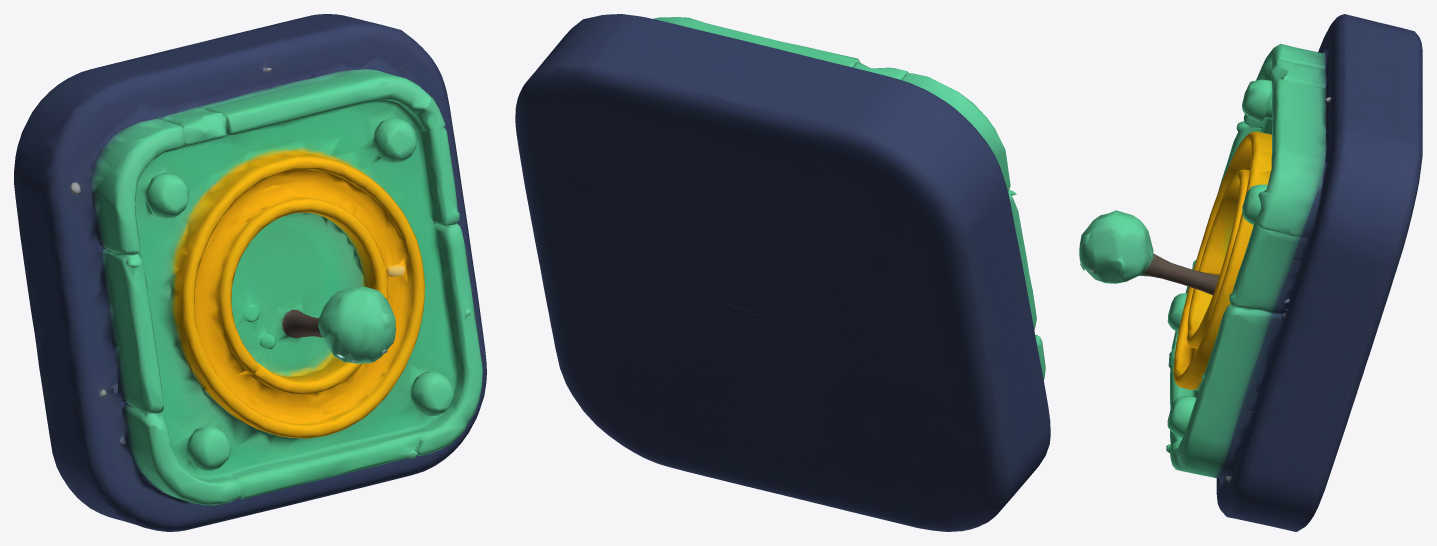
The model's file is track-island.glb.
The picture shows the model from 3 angles, left to right: view 1: azimuth 30°, elevation 25°; view 2: azimuth 150°, elevation 25°; view 3: azimuth 270°, elevation 25°; orthographic projection. The views are drawn at different scales.
Visible parts, largest first — view 1: tripo_node_e80edcaf-1ac5-4ff3-9027-1f8266ee6c98; view 2: tripo_node_e80edcaf-1ac5-4ff3-9027-1f8266ee6c98; view 3: tripo_node_e80edcaf-1ac5-4ff3-9027-1f8266ee6c98.
Boxes of the visible parts, x1,y1,x2,y2 form: tripo_node_e80edcaf-1ac5-4ff3-9027-1f8266ee6c98: (14,14,486,531); tripo_node_e80edcaf-1ac5-4ff3-9027-1f8266ee6c98: (515,14,1050,531); tripo_node_e80edcaf-1ac5-4ff3-9027-1f8266ee6c98: (1079,14,1422,531).
Bounding box in the file's own units: 0.9977 × 1 × 0.7819.
Materials: 1 (1 with a texture image).
